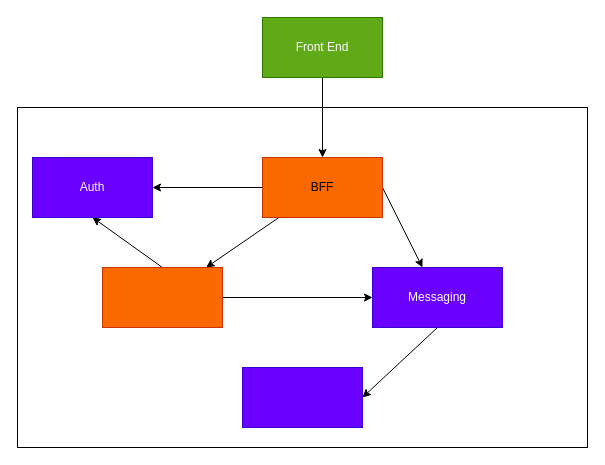
Some shapes in this 605 by 465 pixel diagram are drawn without their labels. The centre of each missing label's shape, as x and y in pixels:
"Case Management API" goes at (162,297).
"Notifications" goes at (302,397).
